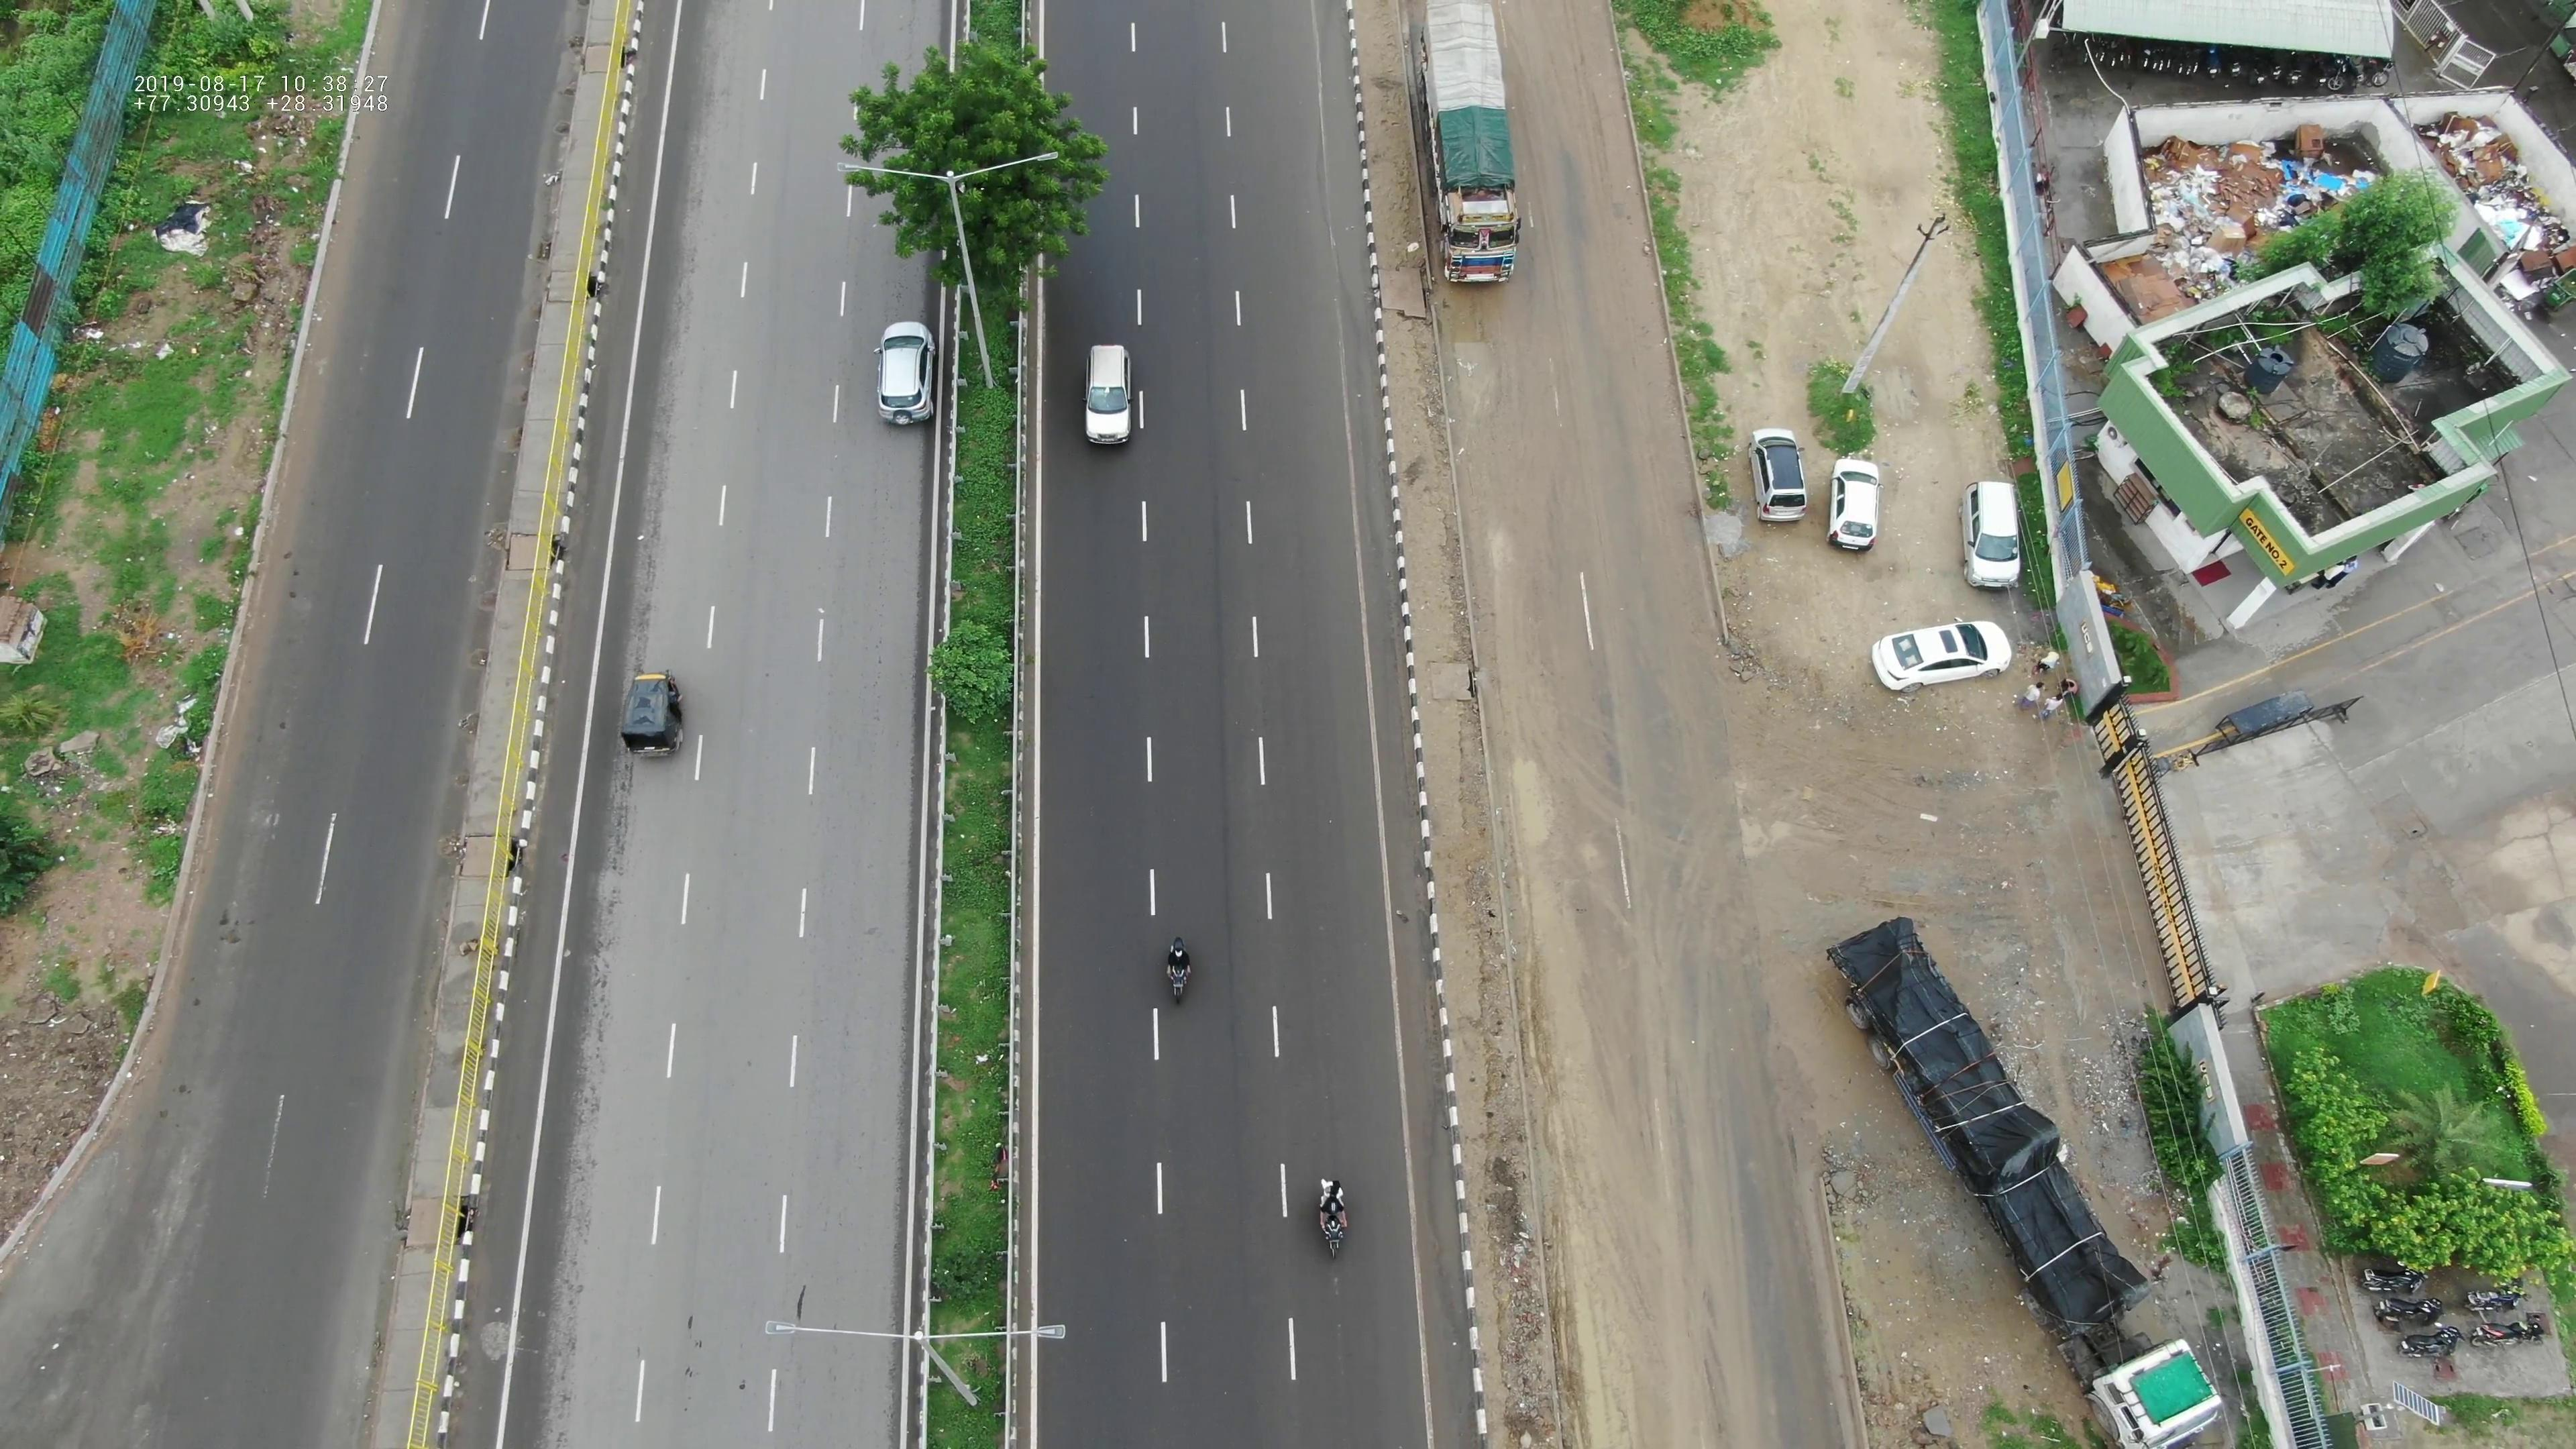Muddy_road: (1518, 699, 1690, 1085), (1451, 288, 1615, 649), (1566, 1100, 1725, 1428)
